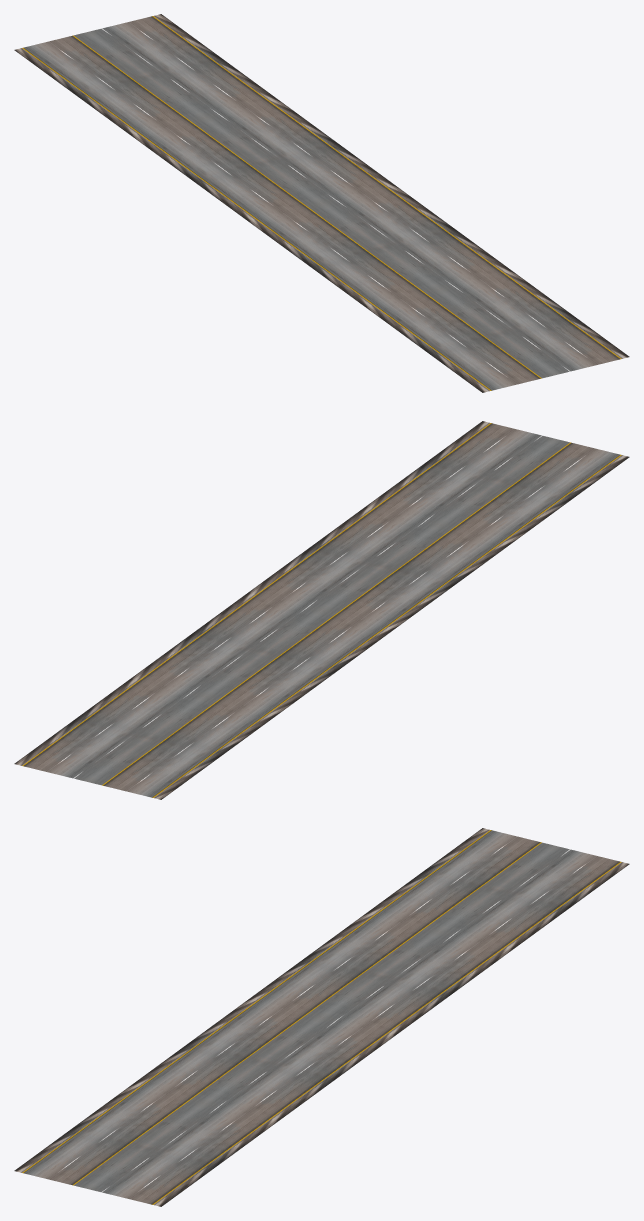
File: as_road_module.fbx
3 renders of one model, top to bottom at view 1: azimuth 30°, elevation 25°; view 2: azimuth 150°, elevation 25°; view 3: azimuth 330°, elevation 25°, orthographic.
Parts seen in each view (by area): view 1: as_road_module; view 2: as_road_module; view 3: as_road_module.
Part boxes in pixels (x1=…): as_road_module: x1=14, y1=14, x2=629, y2=392; as_road_module: x1=14, y1=421, x2=629, y2=799; as_road_module: x1=14, y1=828, x2=629, y2=1206.
Size of the model in its own units: 1815 by 4.04e-05 by 10000.
